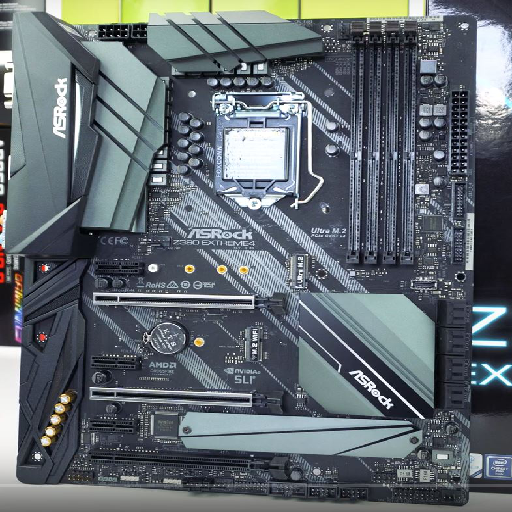CPU: (212, 93, 302, 210)
GPU: (88, 444, 290, 481), (89, 386, 285, 415), (92, 289, 288, 314)
MOTHERBOARD: (1, 16, 470, 506)
RAM: (349, 21, 417, 267)
SSD: (288, 253, 312, 291), (242, 326, 264, 363)
